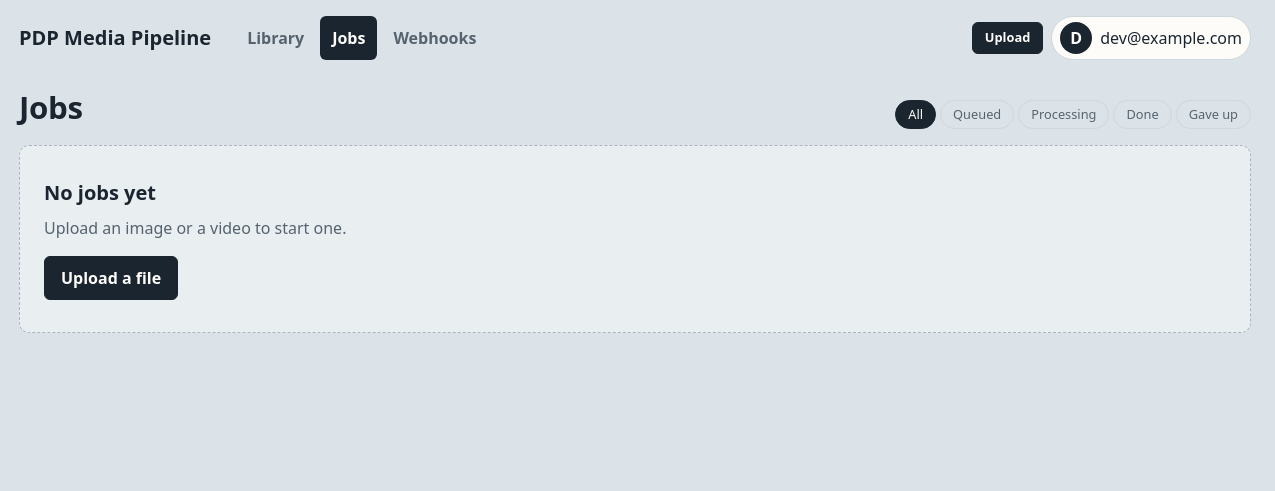
it: app shell › signs out through the gateway from the user menu
Click the button named "Account: dev@example.com": (1151, 38) [1051,16,1251,60]
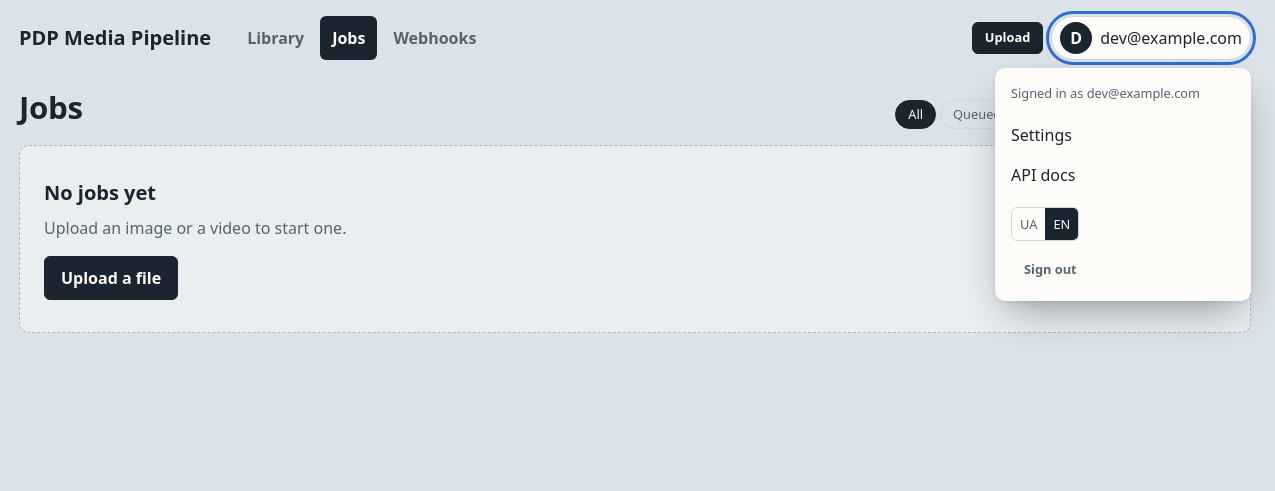
Click the button "Sign out": (1050, 269) [1011,253,1090,285]
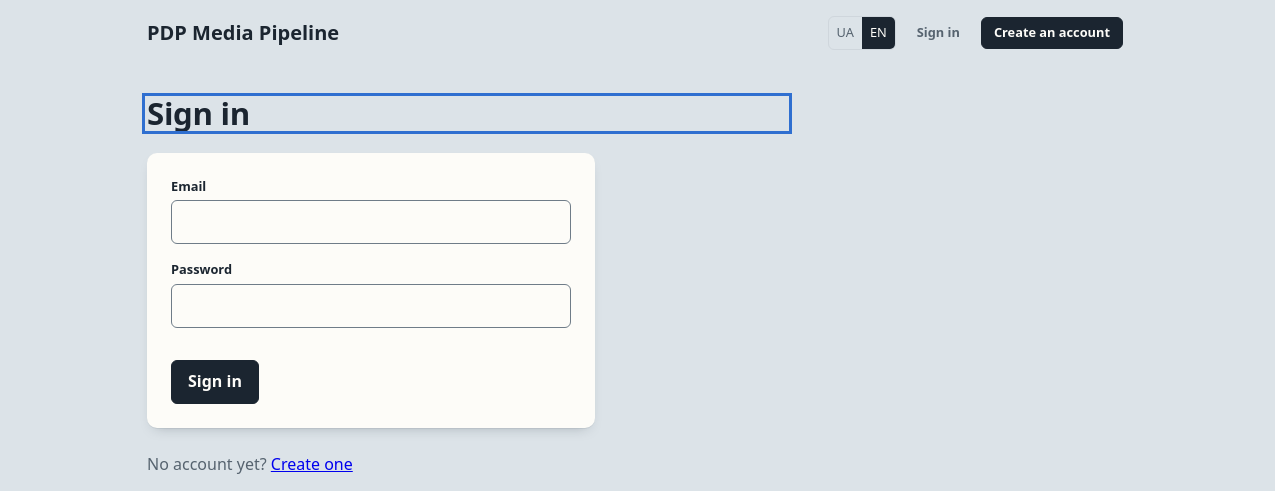
Check: the field labelled "Email" is shown, box [171,200,571,244]
